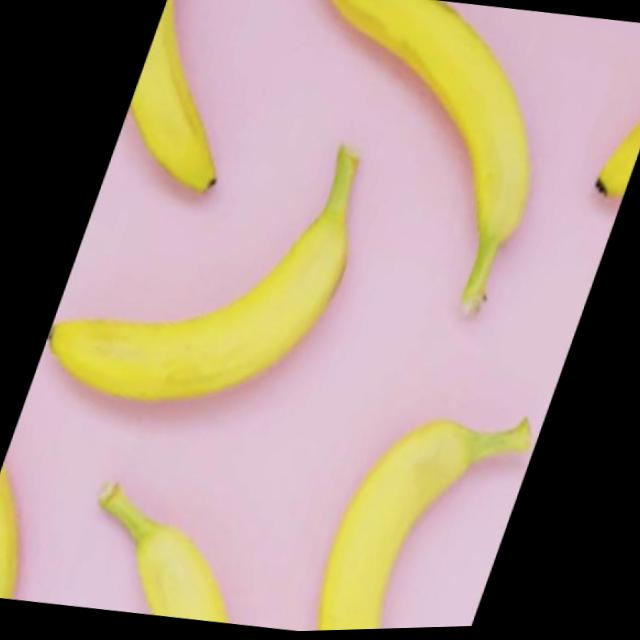Banana: (39, 107, 364, 430), (280, 0, 554, 327), (313, 394, 535, 633), (82, 476, 248, 628), (120, 0, 243, 197), (593, 96, 640, 204), (0, 459, 32, 599)
